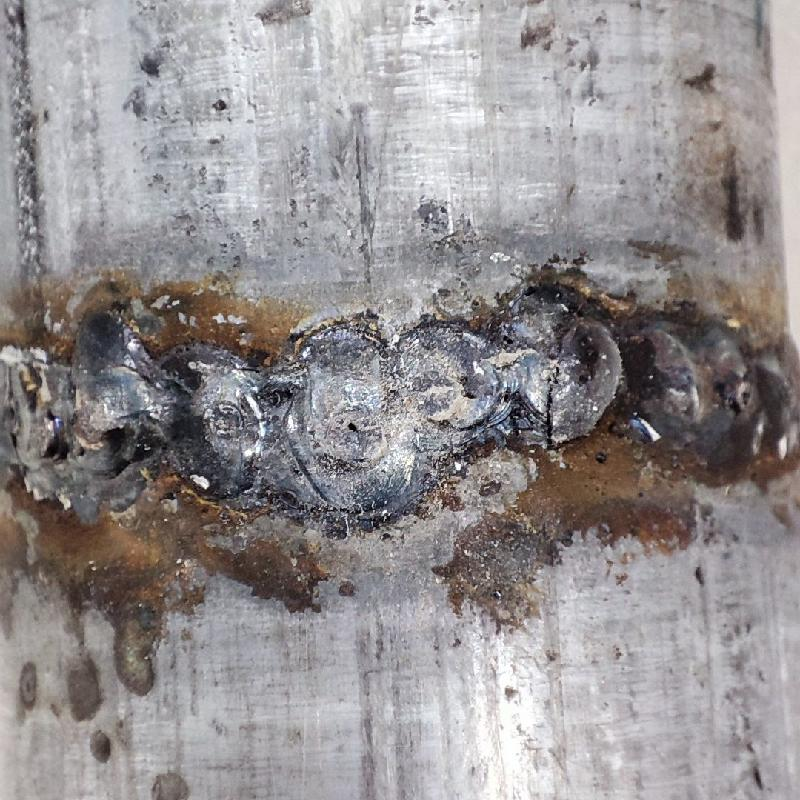Not_fully_soldered: (273, 307, 526, 520)
Surface_pores: (325, 408, 379, 454)
wrong_size: (531, 286, 799, 474)
